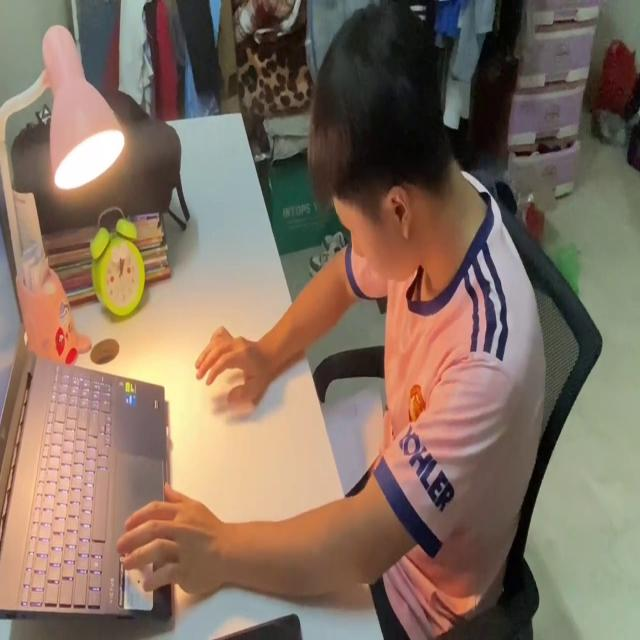book: (319, 384, 387, 489)
laptop: (0, 211, 172, 628)
phone: (200, 602, 306, 640)
student: (113, 0, 546, 640)
